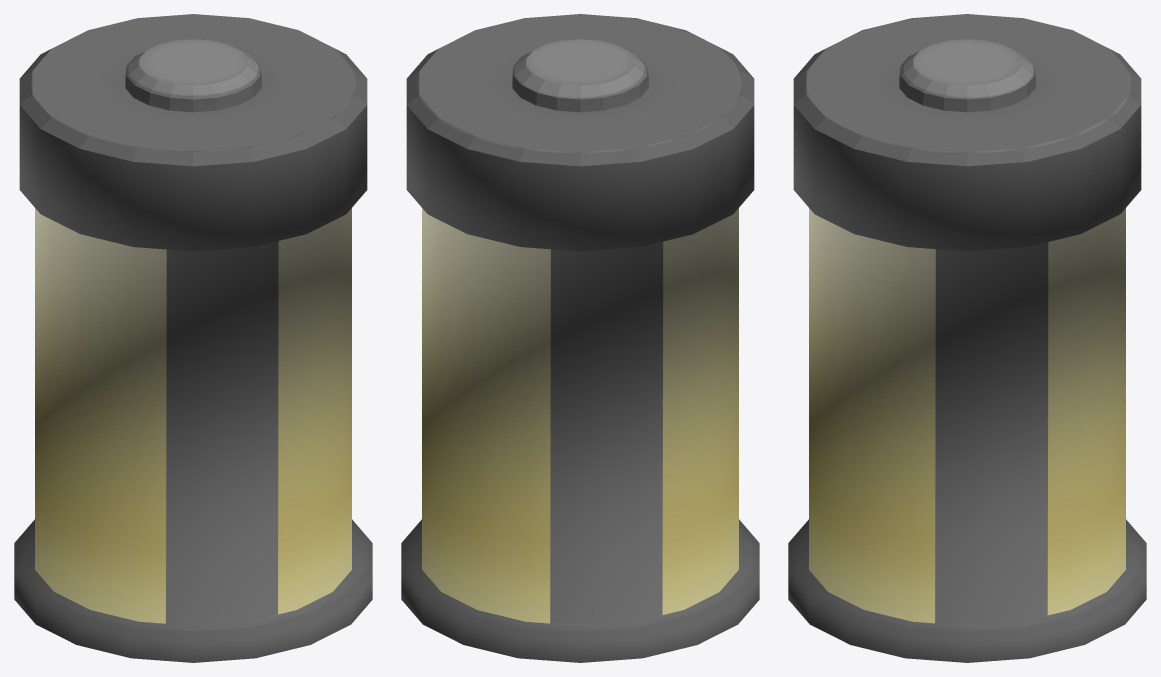
File: FlashLight.fbx
The picture shows the model from 3 angles, left to right: view 1: azimuth 30°, elevation 25°; view 2: azimuth 150°, elevation 25°; view 3: azimuth 270°, elevation 25°; orthographic projection.
Parts seen in each view (by area): view 1: Cylinder001; view 2: Cylinder001; view 3: Cylinder001.
Part boxes in pixels (bbox=[...]): Cylinder001: bbox=[14, 14, 372, 662]; Cylinder001: bbox=[401, 14, 759, 662]; Cylinder001: bbox=[788, 14, 1146, 662].
Bounding box in the file's own units: 28.5 × 45.21 × 28.07.
